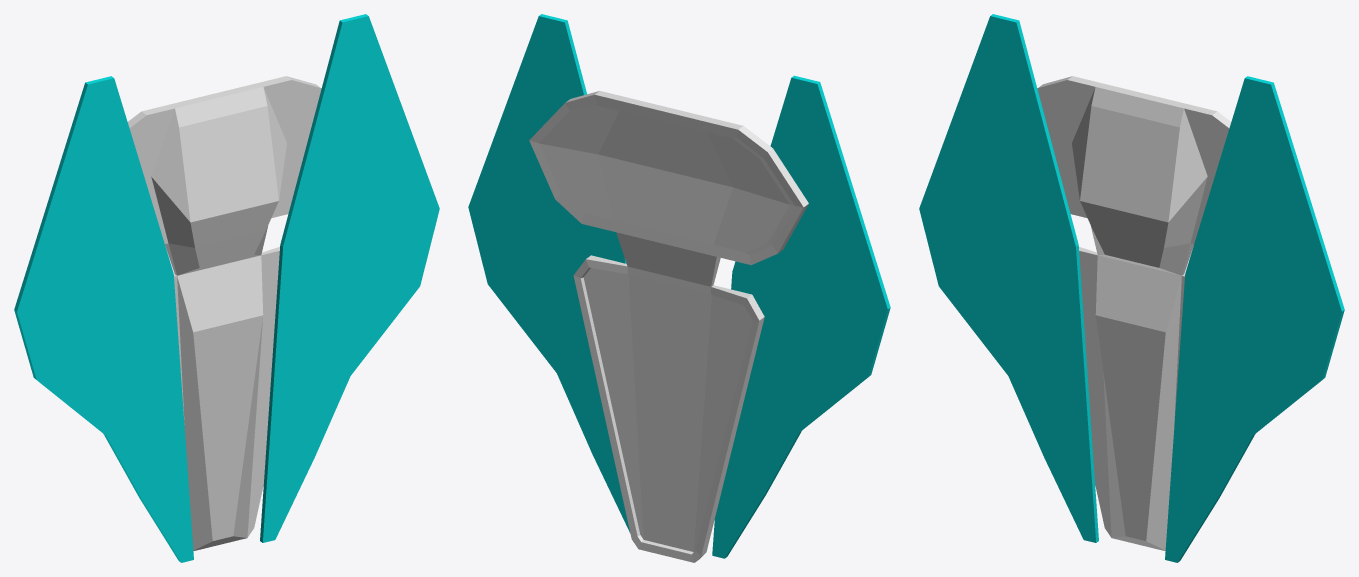
File: ShieldPickup 1.fbx
3 renders of one model, left to right at view 1: azimuth 30°, elevation 25°; view 2: azimuth 150°, elevation 25°; view 3: azimuth 330°, elevation 25°, orthographic.
Visible parts, largest first — view 1: ShieldGuarding; view 2: ShieldGuarding; view 3: ShieldGuarding.
Boxes of the visible parts, bbox=[...] form: ShieldGuarding: bbox=[14, 14, 439, 562]; ShieldGuarding: bbox=[468, 14, 890, 562]; ShieldGuarding: bbox=[919, 14, 1344, 562].
Size of the model in its own units: 398 by 451 by 34.1.
